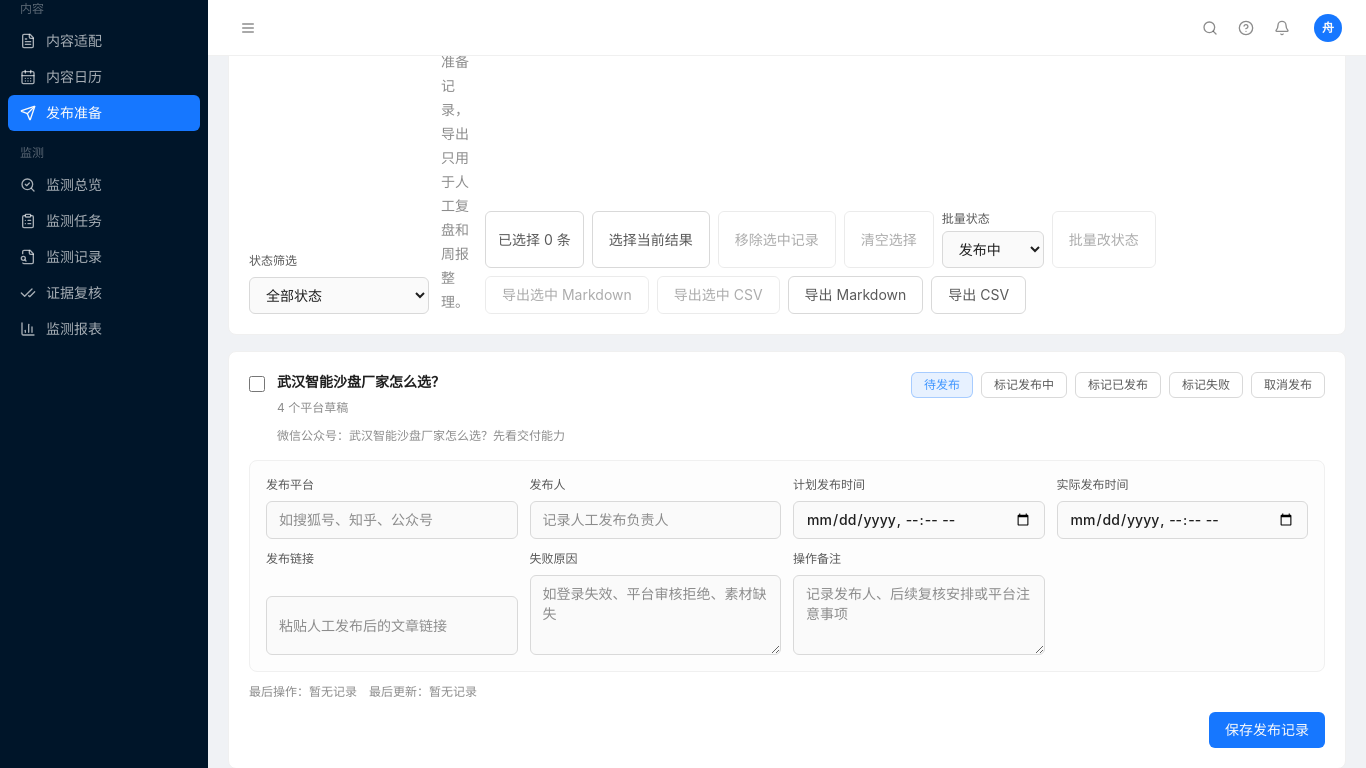
P6 发布准备队列页面 › 支持批量移除选中的发布准备记录
This screenshot has width=1366, height=768.
(page scrolled)
Expected: the text "武汉智能沙盘厂家怎么选？" is shown, [277, 373, 445, 390]
Click the checkbox named "选择发布记录 武汉智能沙盘厂家怎么选？": (257, 384) [249, 376, 265, 392]
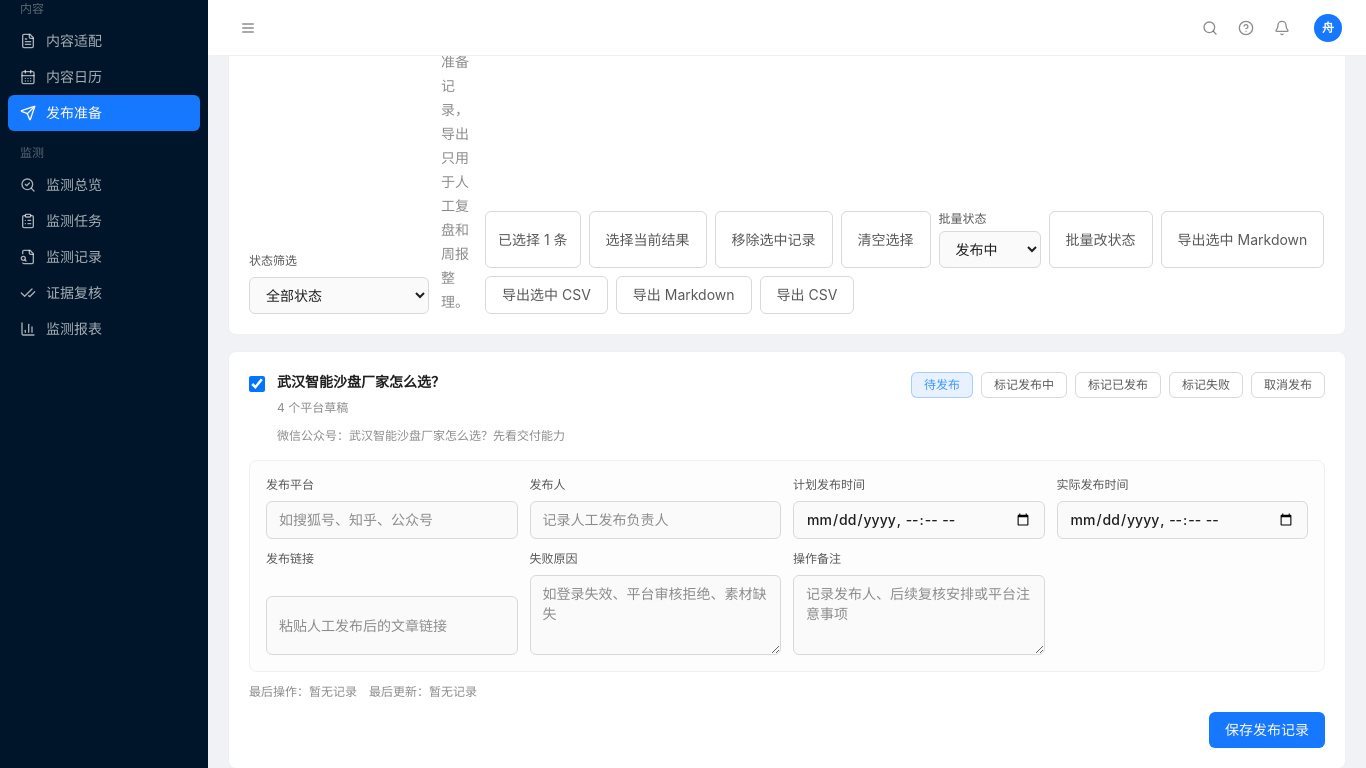
Click the button "移除选中记录": (774, 240) [715, 211, 833, 268]
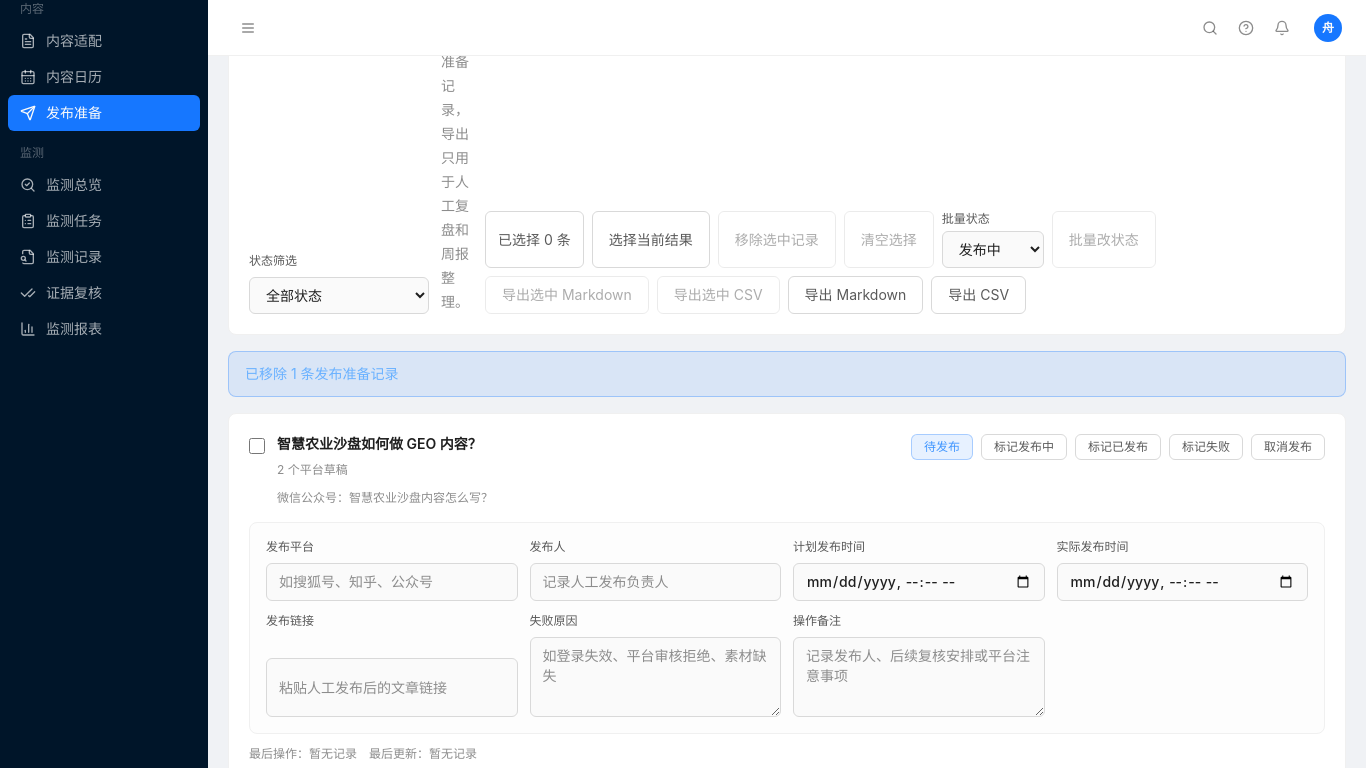
Expected: the text "智慧农业沙盘如何做 GEO 内容？" is shown, [277, 434, 493, 454]
Expected: the message reads "已移除 1 条发布准备记录", [245, 365, 399, 382]
Expected: the text "武汉智能沙盘厂家怎么选？" is gone
